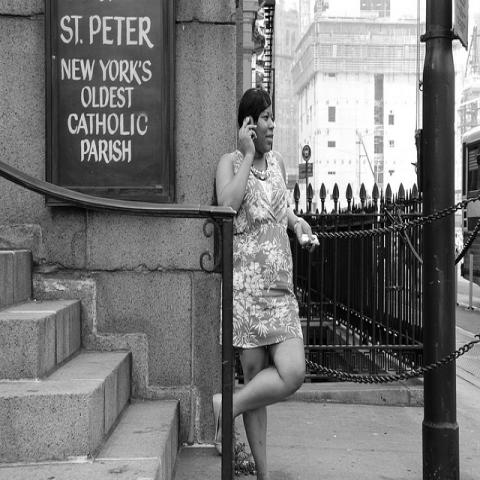bus: (459, 122, 479, 287)
